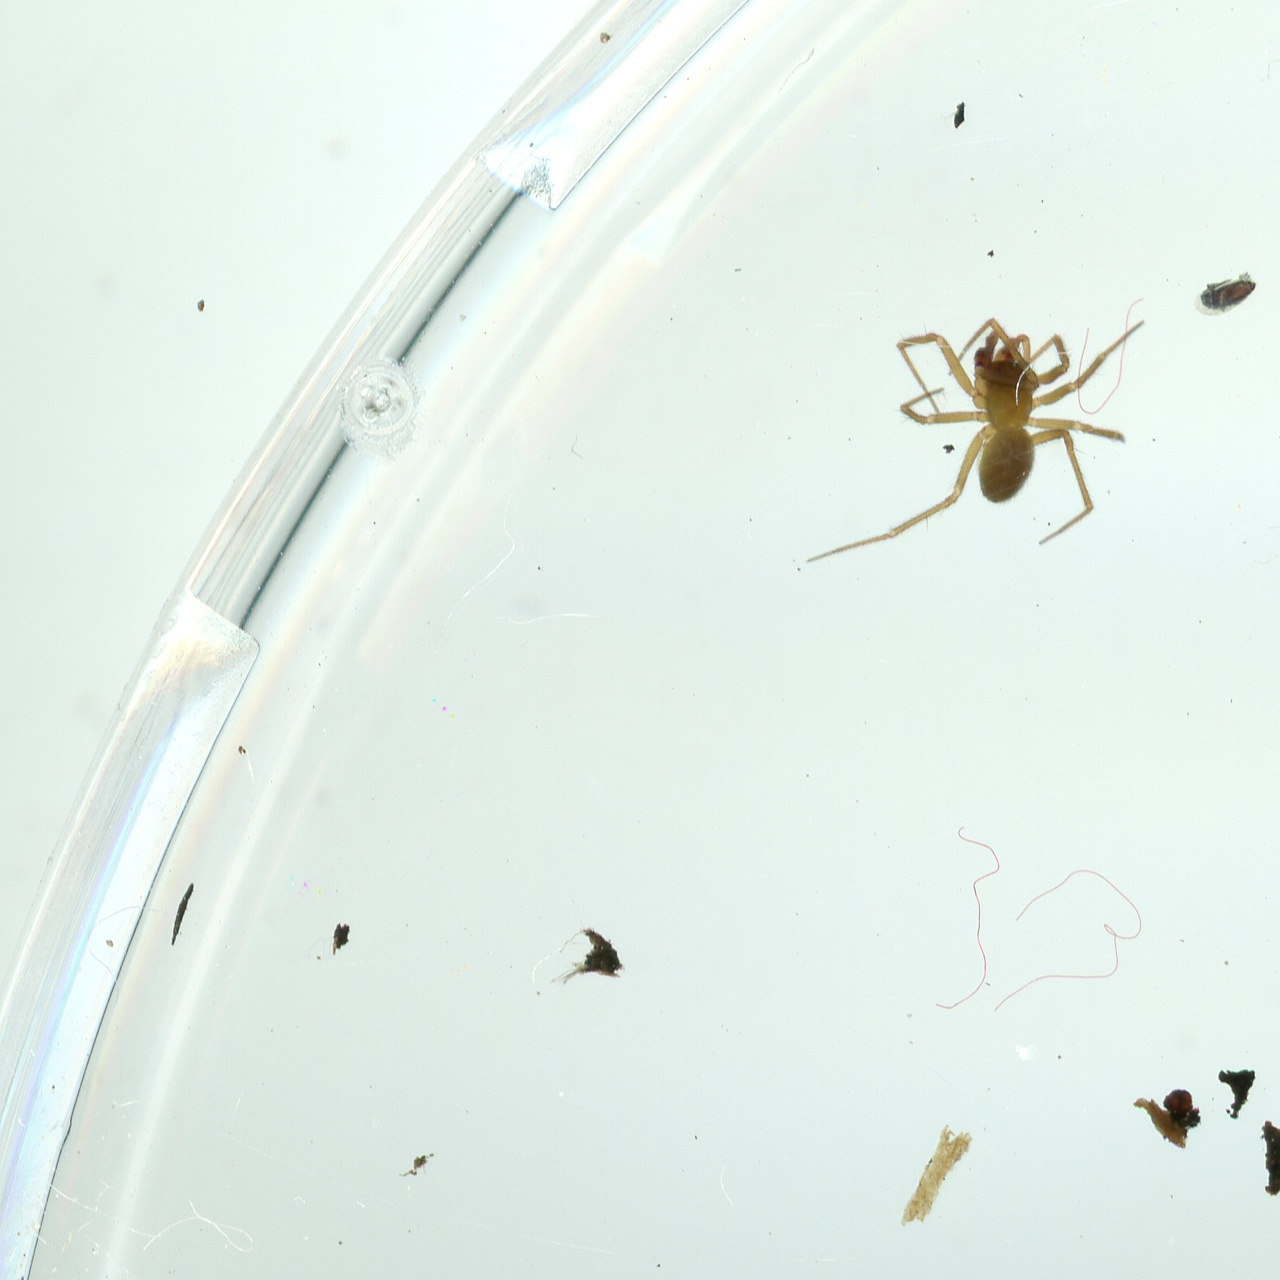arthropod: (803, 314, 1150, 572), (1189, 268, 1262, 322)
